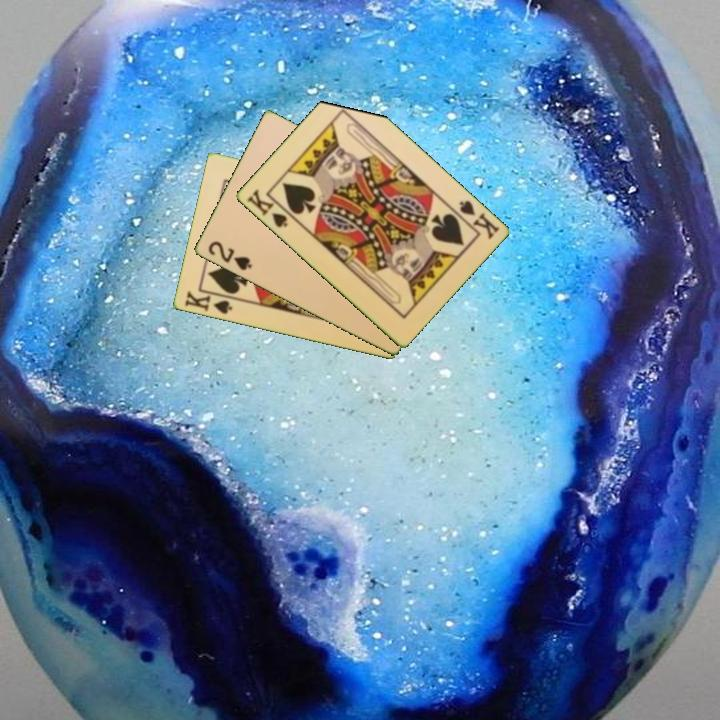2s: (204, 237, 254, 273)
Ks: (448, 197, 502, 243), (243, 185, 296, 230), (181, 287, 237, 317)
